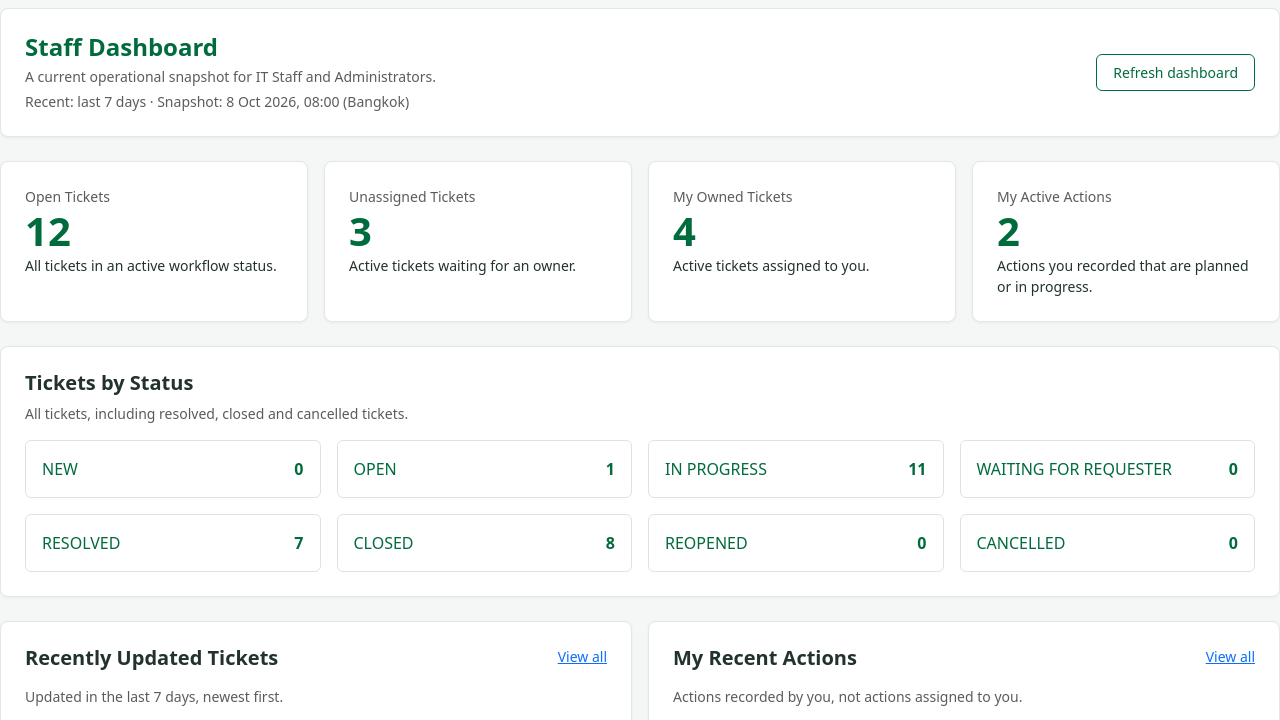
Test: StaffDashboard (C4-03, AC-12, AC-13, AC-18) › labels a retained snapshot stale after refresh fails and offers retry
The width and height of the screenshot is (1280, 720).
Click the button "Refresh dashboard" at [1176, 72], box [1096, 54, 1255, 91]
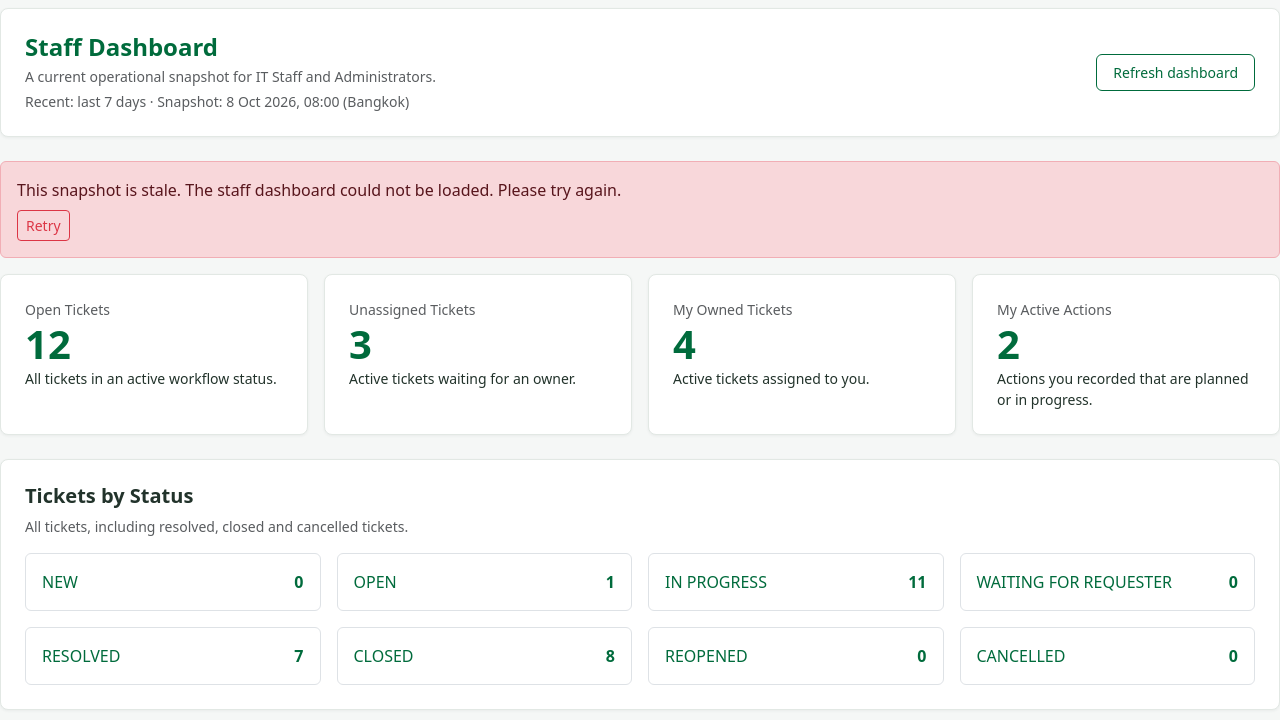
Check: the link with aria-label "Open Tickets: 12" is shown, box [0, 274, 308, 435]
Check: the message shows "snapshot is stale", box [17, 179, 621, 201]
Click the button "Retry" at [43, 225], box [17, 210, 70, 241]
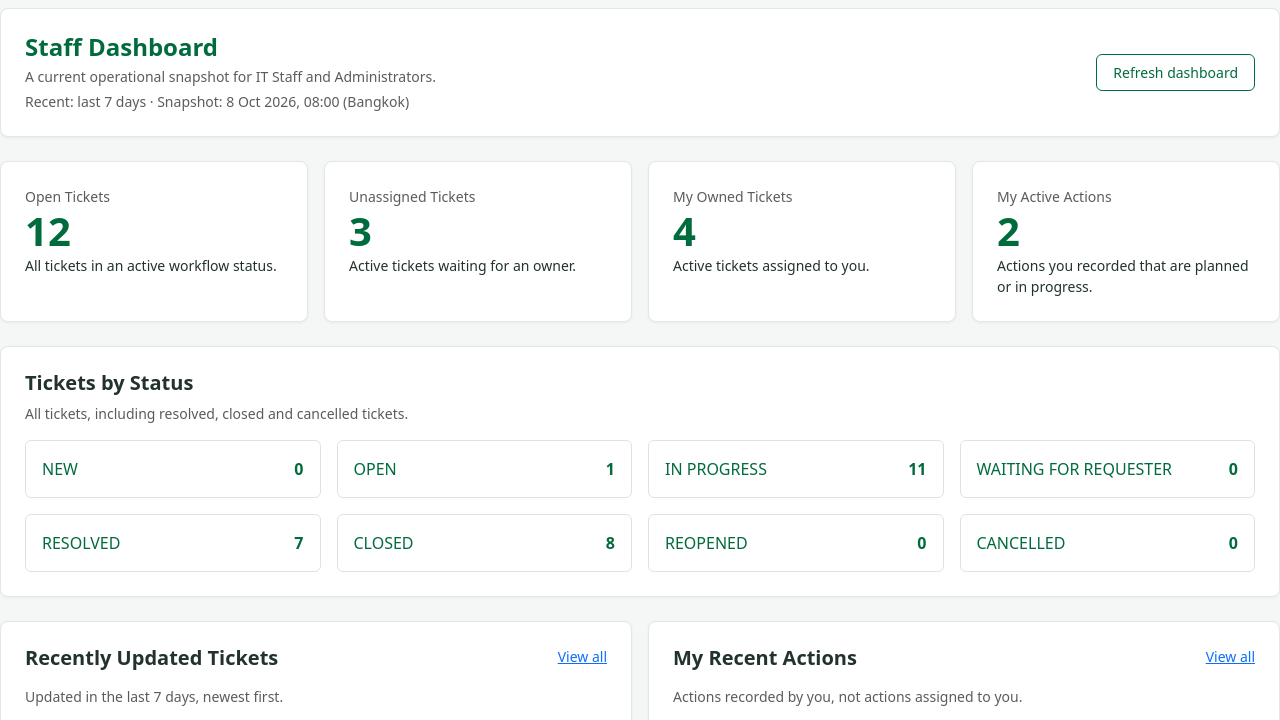
Check: the message is gone
